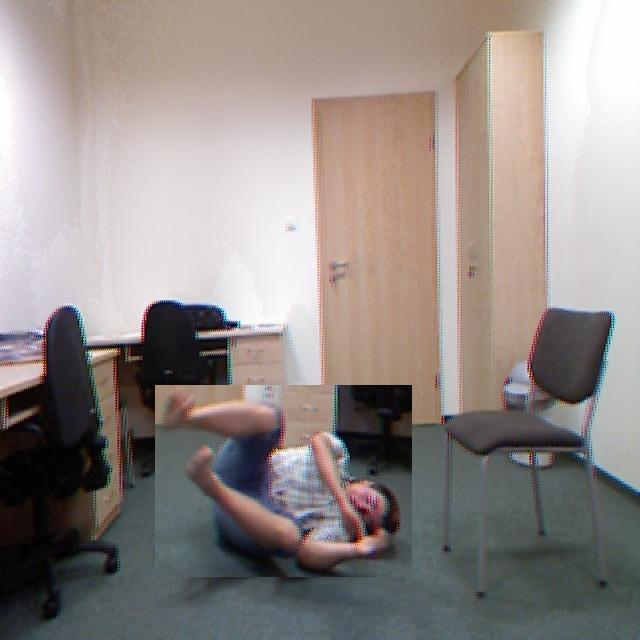Fall: (188, 308, 422, 609)
